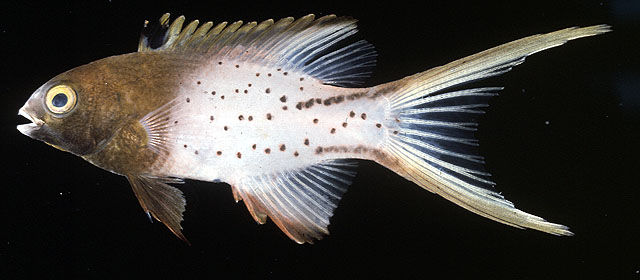fish: (17, 13, 610, 246)
